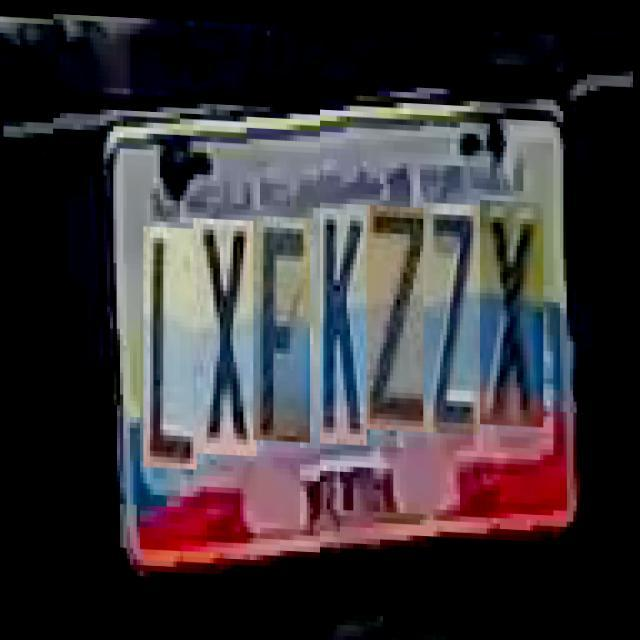F: (253, 207, 310, 434)
K: (320, 204, 367, 442)
L: (143, 219, 197, 462)
X: (193, 210, 257, 448), (479, 195, 544, 422)
Z: (367, 200, 430, 428), (423, 198, 480, 430)
